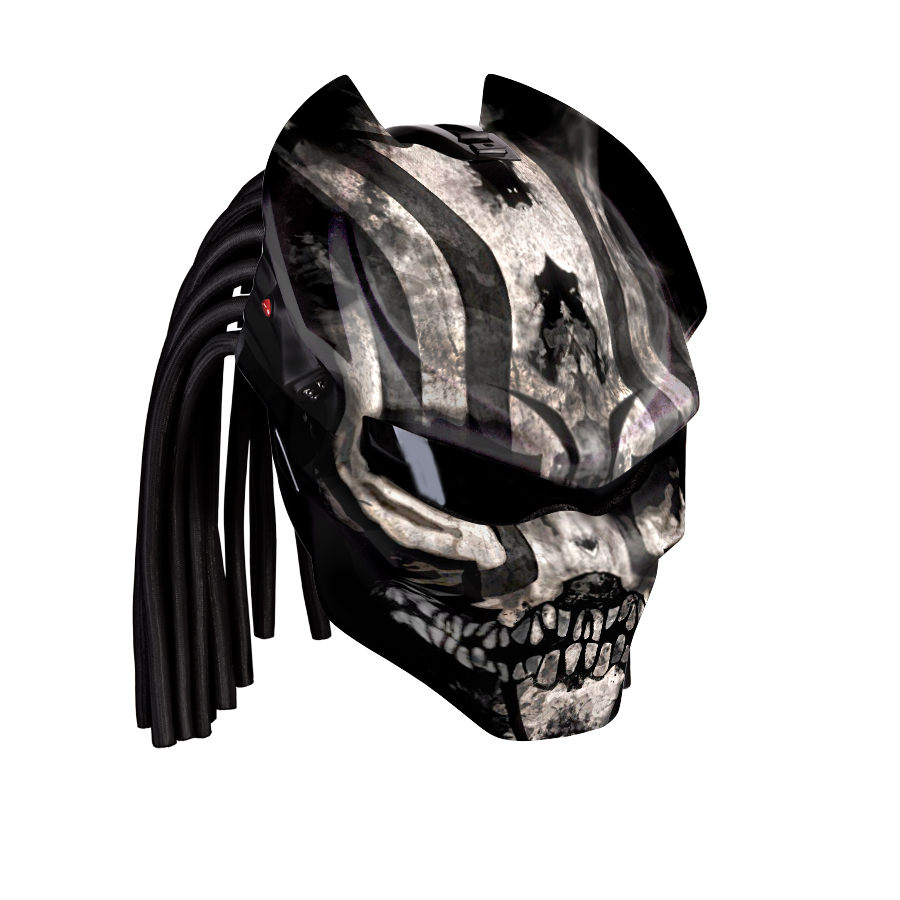with_helmet: (125, 53, 733, 773)
